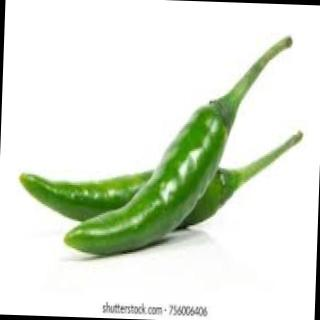Cabai Hijau: (46, 63, 302, 265)
